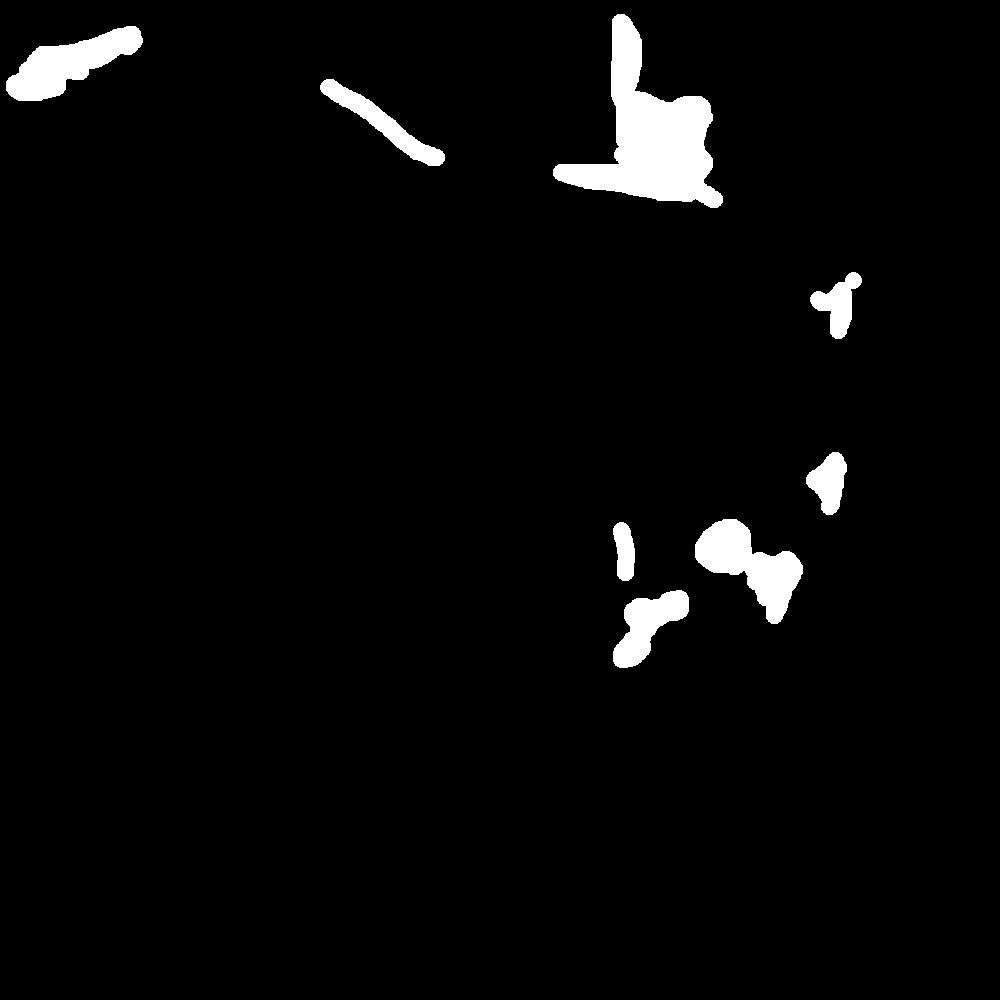illegal: (564, 92, 713, 208), (322, 80, 439, 170), (12, 29, 142, 109), (613, 519, 678, 672), (705, 515, 803, 595), (788, 270, 869, 333), (811, 452, 850, 511)
